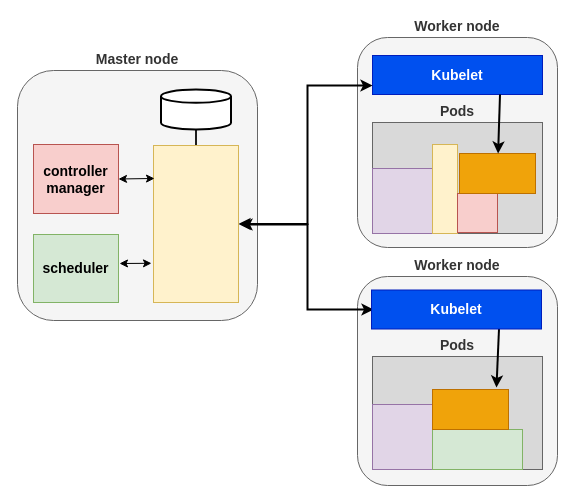
Some shapes in this 575 by 503 pixel diagram are drawn without their labels. The shapes that lost their labels are listed below. From the top down, each one's centre as x and y in pixels, then its label:
At point 196,109: "etcd".
At point 195,223: "API server".
